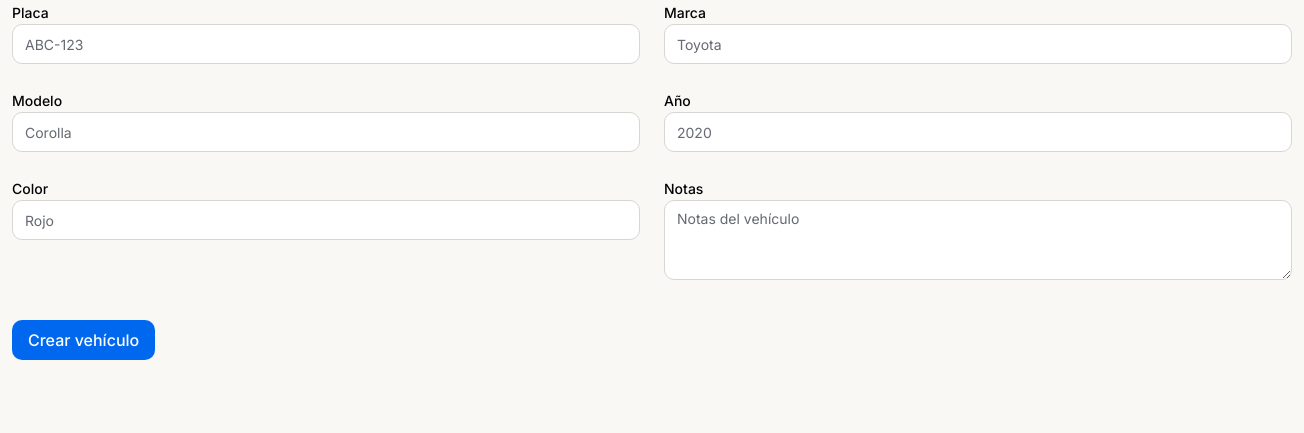
Test: VehicleForm › shows validation errors for required fields
The image size is (1304, 433).
Click the button "Crear vehículo" at (84, 340), box [12,320,155,360]
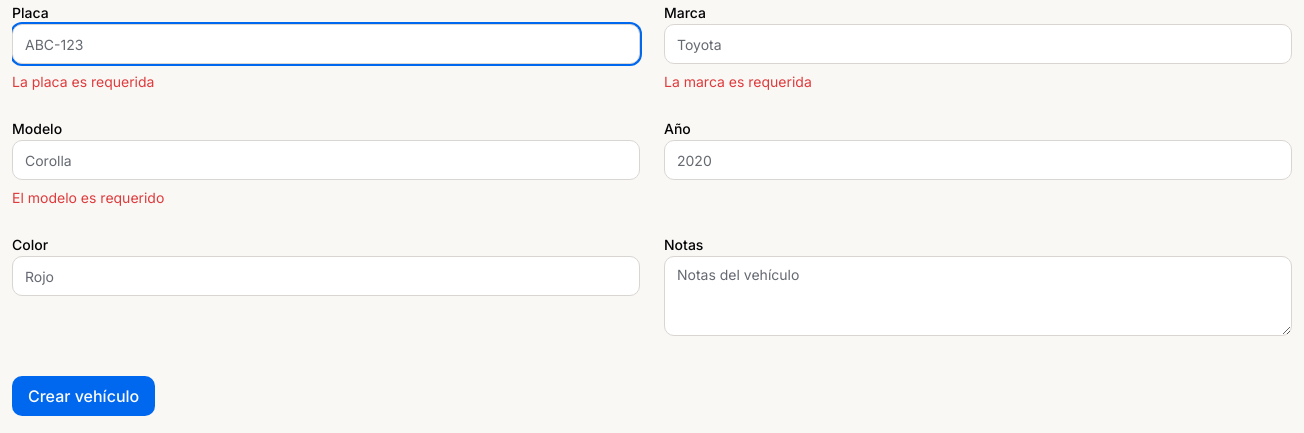
Check: the text "La placa es requerida" is shown, box [12,73,154,90]
